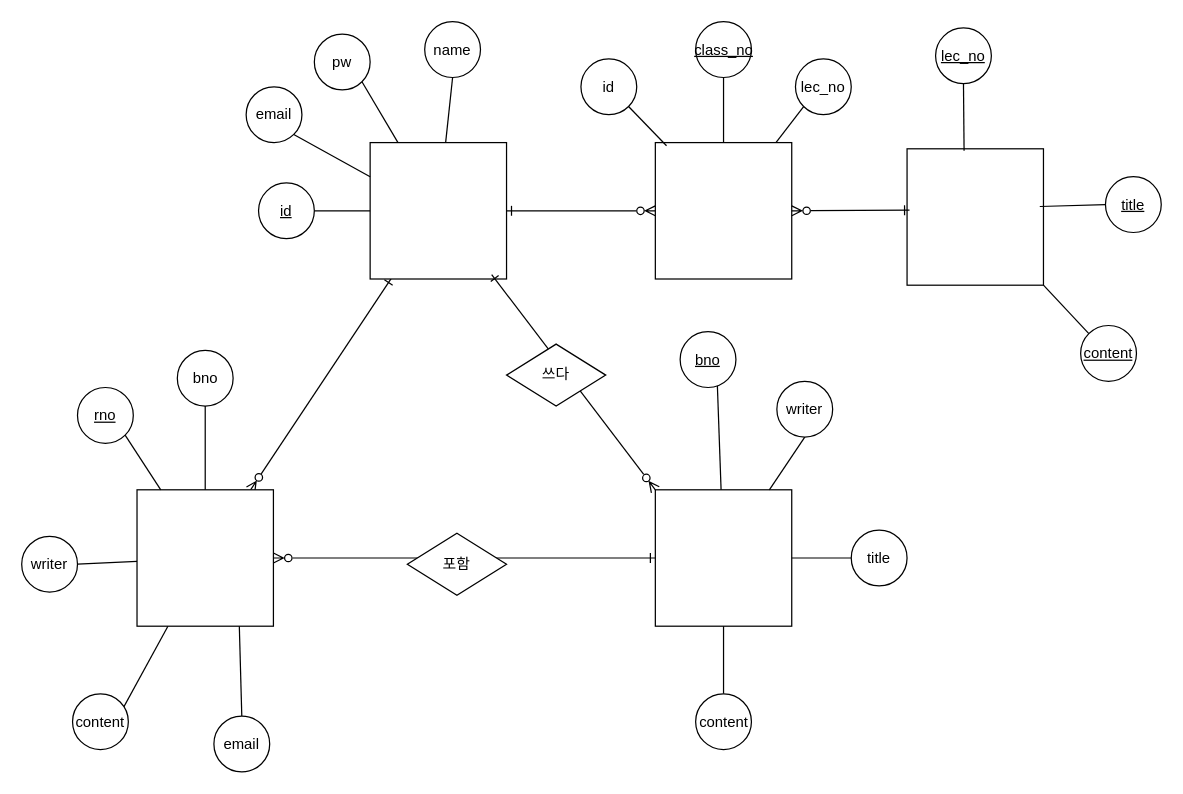
The diagram is 1183 pixels wide and 794 high, and some of its shapes have lost their labels. Here are the shapes that lost their labels. From the top down, the box of each, then its label:
(369, 141, 507, 279): 회원
(654, 141, 792, 279): 수강 신청
(906, 148, 1043, 285): 강의
(136, 489, 273, 626): 댓글
(654, 489, 792, 626): 게시글
